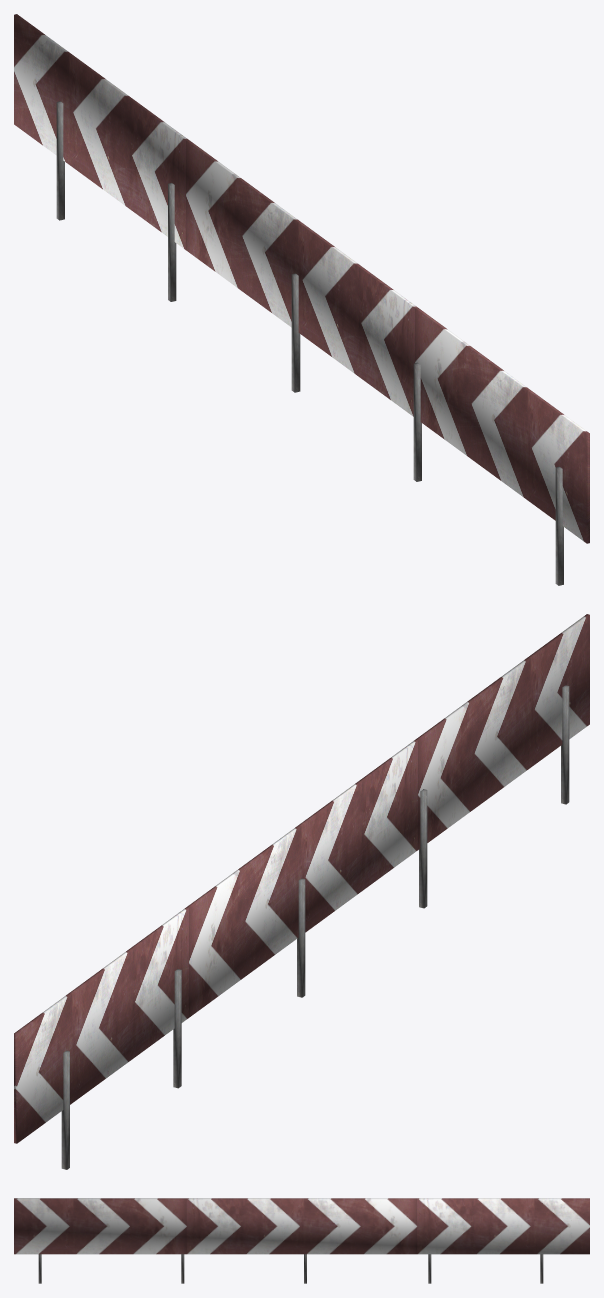
Rendered from sign_narrow_tall_right.fbx.
The picture shows the model from 3 angles, top to bottom: view 1: azimuth 30°, elevation 25°; view 2: azimuth 150°, elevation 25°; view 3: azimuth 270°, elevation 25°; orthographic projection. The views are drawn at different scales.
Visible parts, largest first — view 1: sign_narrow; view 2: sign_narrow; view 3: sign_narrow.
Part boxes in pixels (x1=…): sign_narrow: x1=14, y1=14, x2=589, y2=585; sign_narrow: x1=14, y1=614, x2=589, y2=1169; sign_narrow: x1=14, y1=1198, x2=589, y2=1283.
Size of the model in its own units: 1.09 by 26 by 160.
